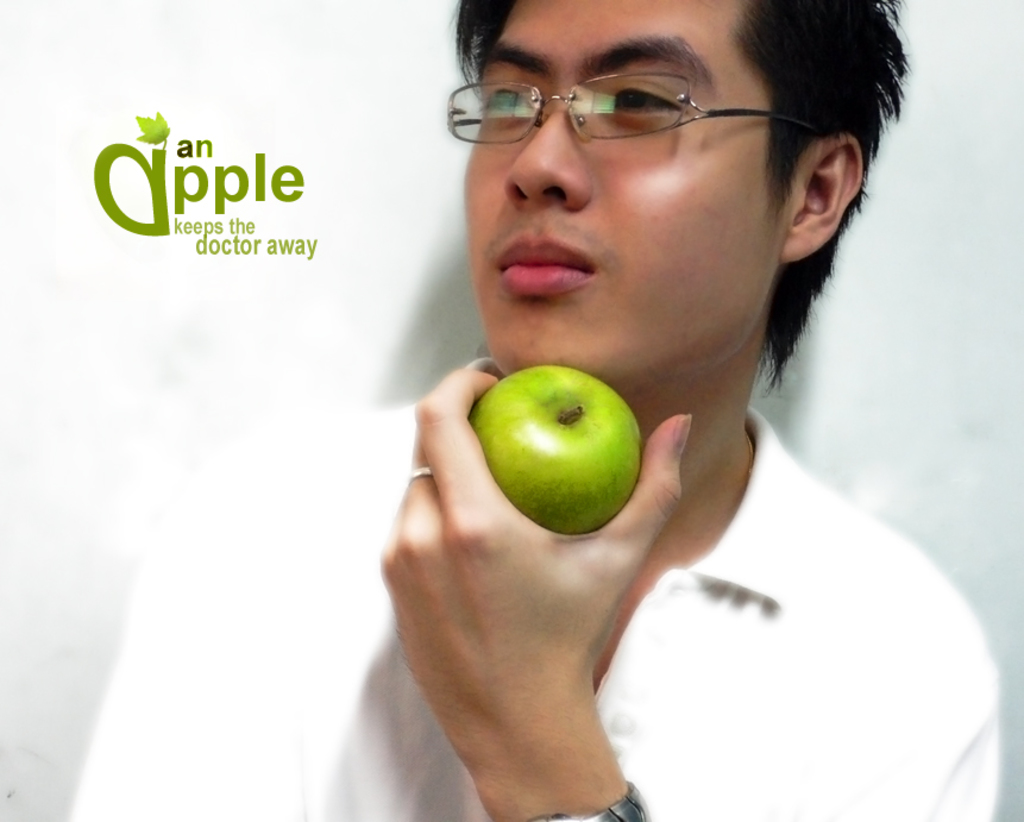Apple: (470, 360, 642, 534)
